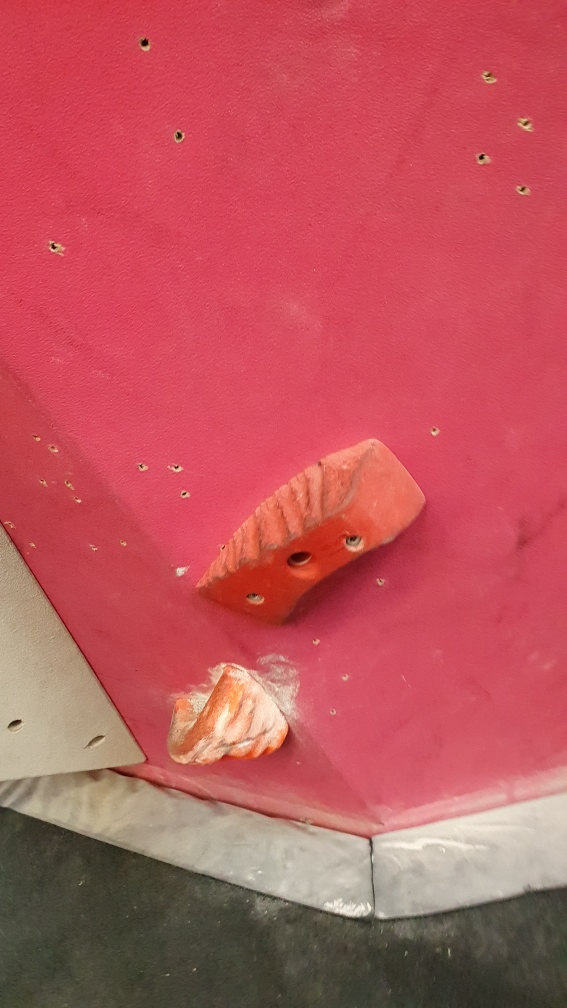Crimp: (194, 431, 428, 632)
Jug: (161, 659, 292, 769)
